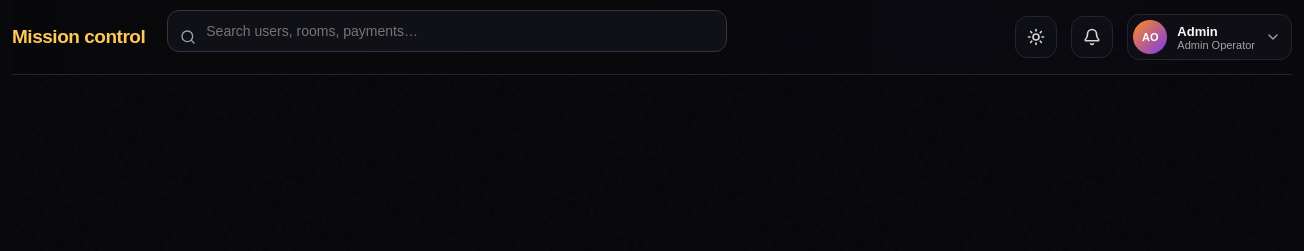
Scenario: Topbar notifications › opens, shows loading then a list (read + unread, with/without body), and toggles closed
The width and height of the screenshot is (1304, 251).
Click the button named "Notifications": (1092, 37) [1071, 16, 1113, 58]
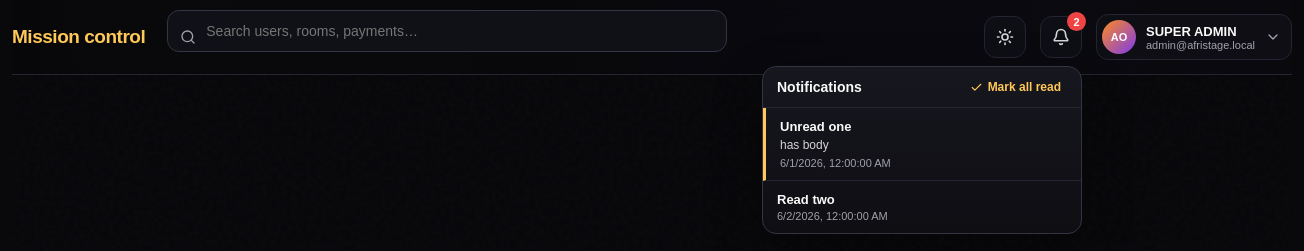
Check: the text "Unread one" is shown, box [780, 119, 852, 134]
Check: the text "has body" is shown, box [780, 138, 829, 152]
Check: the text "Read two" is shown, box [777, 192, 835, 207]
Click the button named "Notifications": (1061, 37) [1040, 16, 1082, 58]
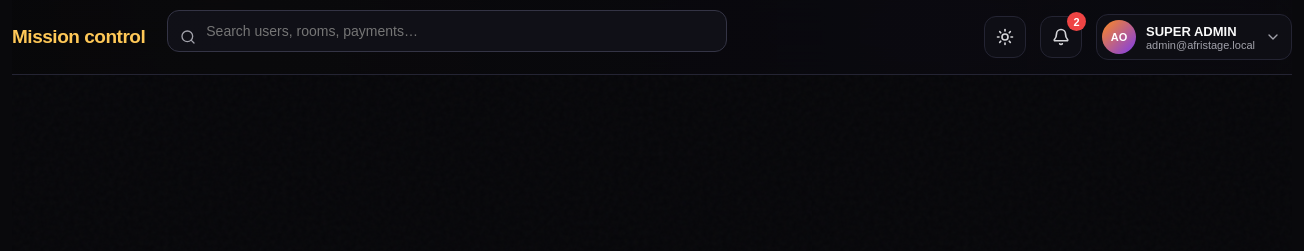
Check: the button "Unread one" is gone
